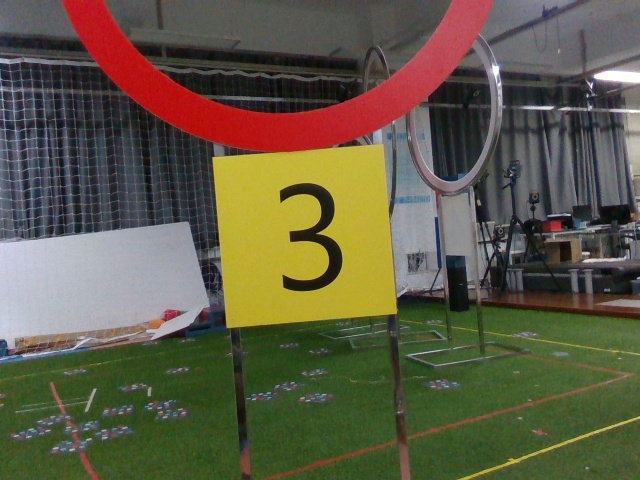target: (221, 156, 398, 320)
